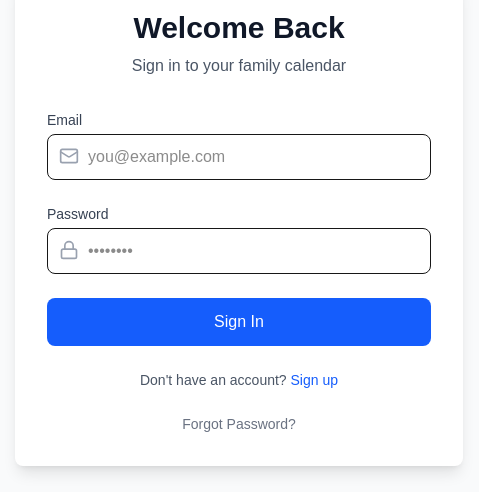
LoginPage › shows loading text during submission
The width and height of the screenshot is (479, 492).
Step 1. Type "user@test.com" into the field with placeholder "you@example.com" → (239, 157), box [47, 134, 431, 180]
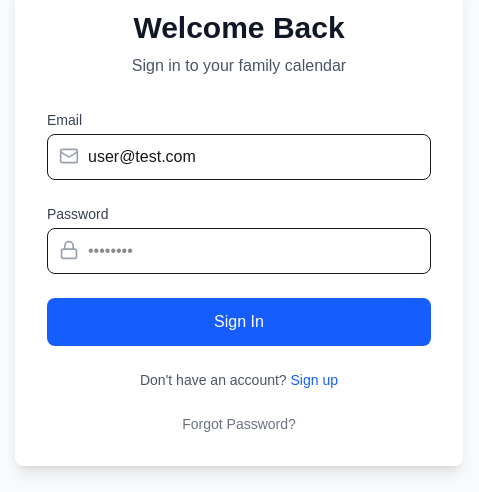
Step 2. Type "pass" into the password field with placeholder "••••••••" → (239, 251), box [47, 228, 431, 274]
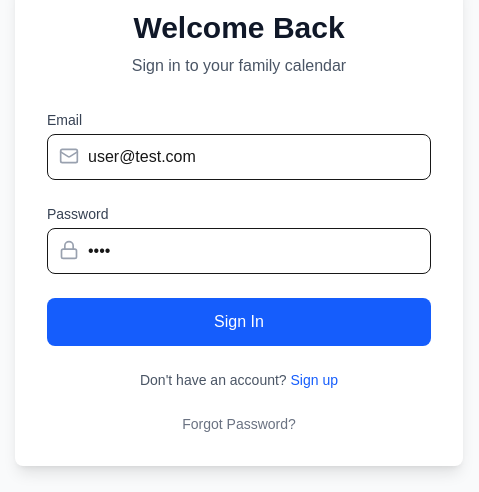
Step 3. Click the button "Sign In" → (239, 322), box [47, 298, 431, 346]
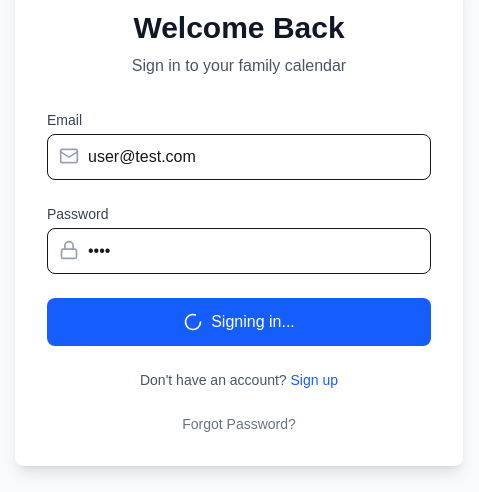
Expected: the button "Signing in..." is shown, [47, 298, 431, 346]
